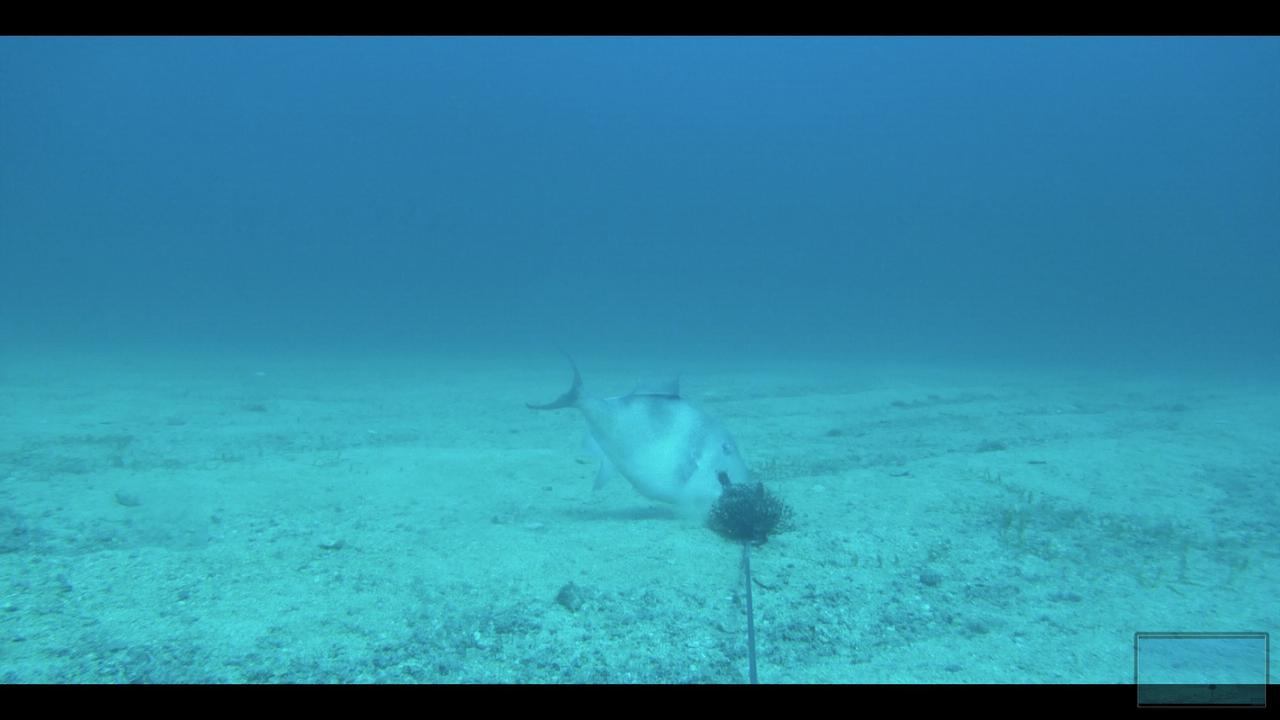balistes: (504, 341, 764, 511)
